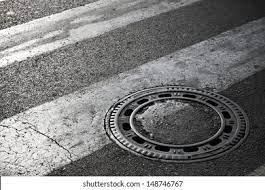open drainage-not overflowing-: (100, 85, 249, 162)
